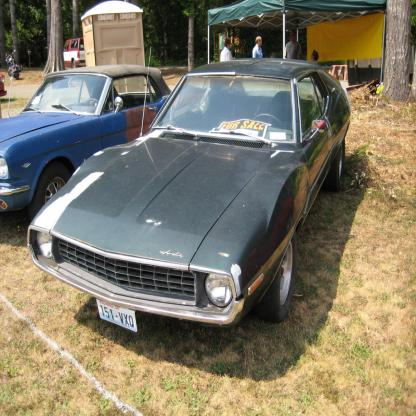Car: (29, 56, 343, 345), (1, 68, 171, 216), (65, 38, 87, 69)
